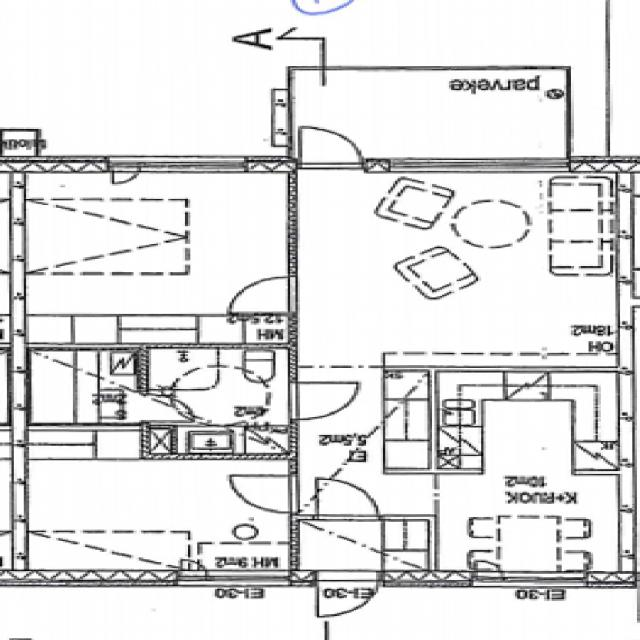door: (318, 571, 380, 626), (303, 120, 364, 172), (316, 500, 380, 544), (290, 383, 361, 420), (230, 476, 300, 513), (234, 278, 299, 312), (141, 396, 194, 424)
